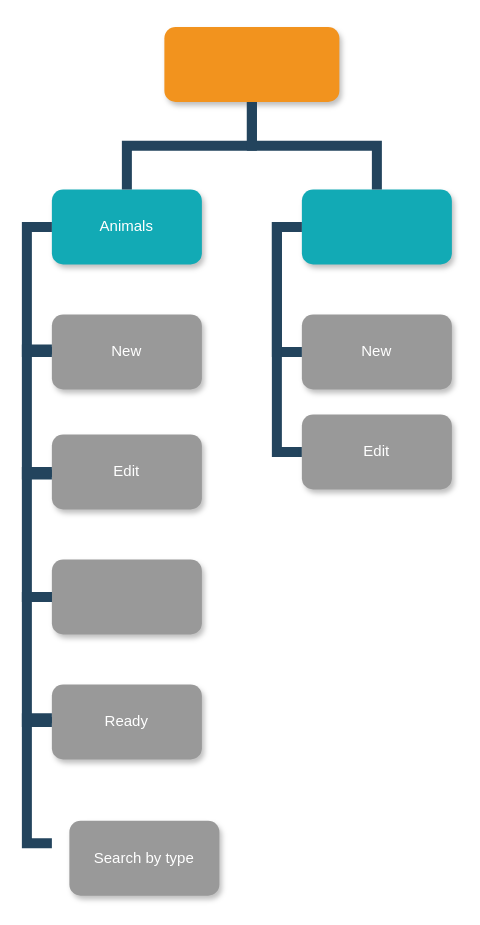
This 480x925 diagram has some shape labels left out. Here are the shapes that lost their labels. From the top down, the centre of each, then its label:
the point at 252,65: Homepage
the point at 377,228: Owners
the point at 127,598: Not ready
